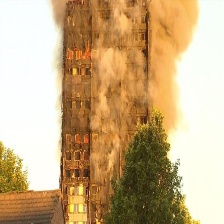smoke: (148, 1, 206, 141), (93, 4, 130, 165), (50, 1, 65, 158)
